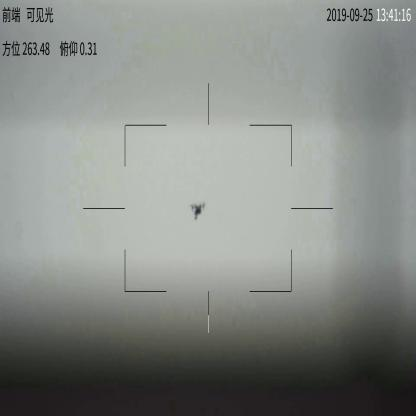uav: (189, 201, 208, 223)
